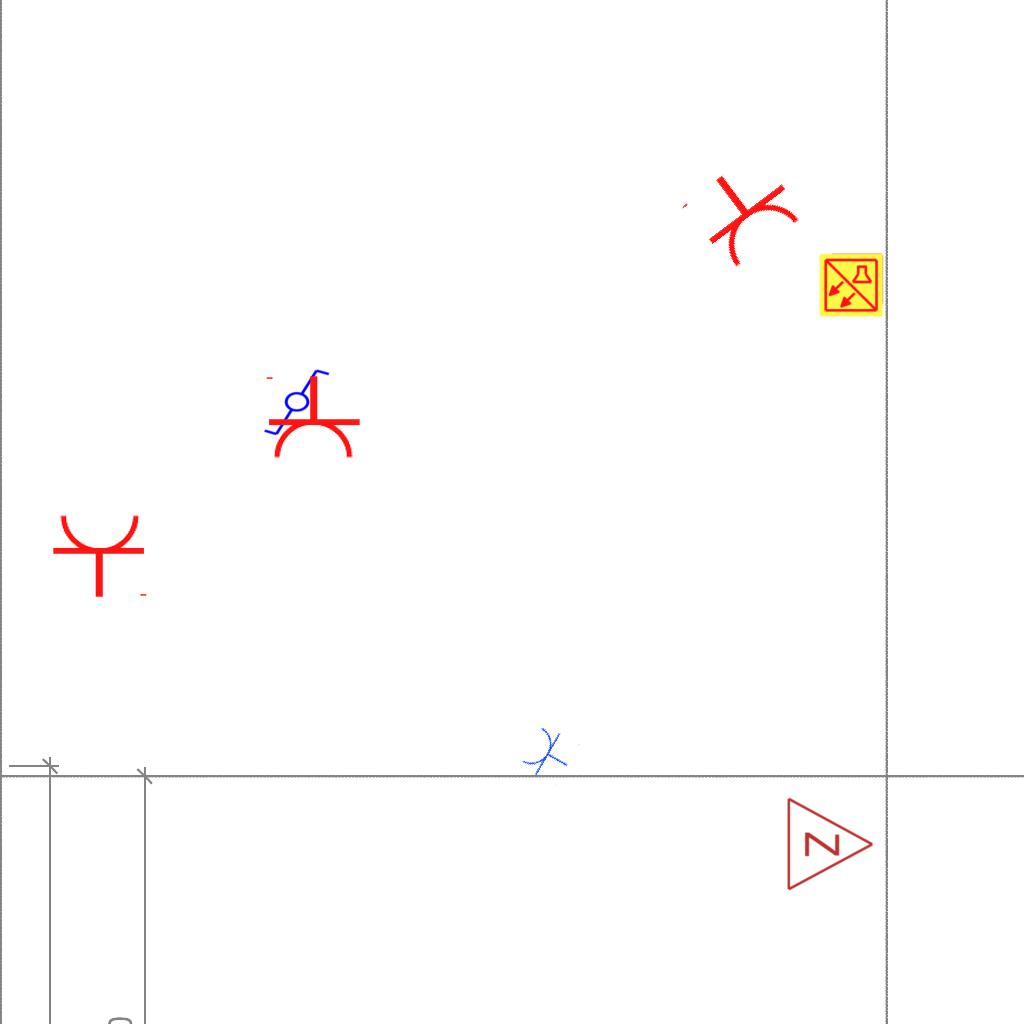OKW_Multisensormelder_(Kombination_optischer_Rauch-Kahlenmonoxid_Waerme-Melder): (818, 252, 884, 318)
Schukosteckdose_einfach: (676, 147, 809, 277), (51, 512, 151, 599), (262, 374, 362, 461), (517, 722, 581, 787)
Wechselschalter: (262, 367, 340, 439)
Zimmersignalleuchte: (780, 794, 880, 892)
